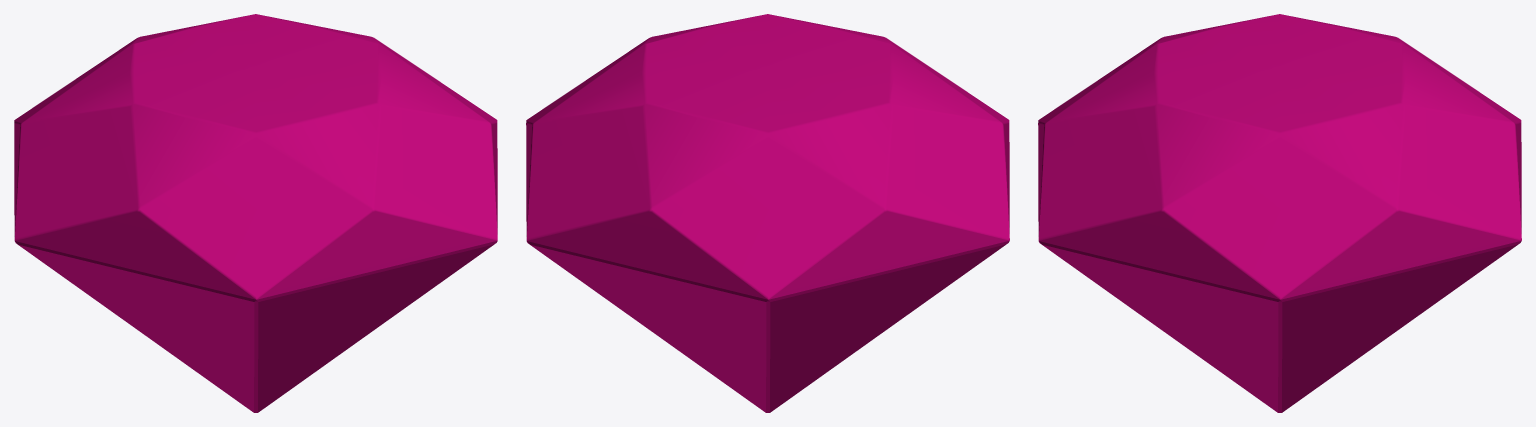
Rendered from Gem.fbx.
3 views of the same model, side by side, from view 1: azimuth 30°, elevation 25°; view 2: azimuth 150°, elevation 25°; view 3: azimuth 270°, elevation 25° (orthographic).
Parts seen in each view (by area): view 1: gem; view 2: gem; view 3: gem.
Boxes of the visible parts, bbox=[...] form: gem: bbox=[14, 14, 497, 412]; gem: bbox=[526, 14, 1009, 412]; gem: bbox=[1038, 14, 1521, 412].
Bounding box in the file's own units: 4.8 × 3.25 × 4.16.
